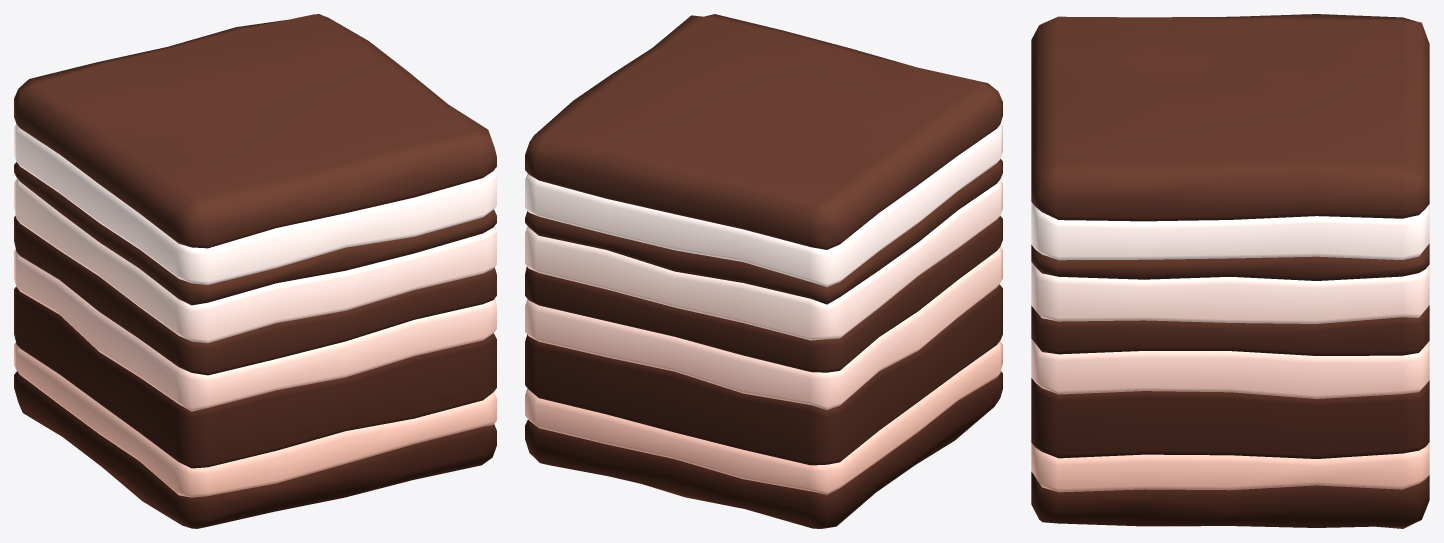
The model's file is Cake_01.glb.
3 views of the same model, side by side, from view 1: azimuth 30°, elevation 25°; view 2: azimuth 150°, elevation 25°; view 3: azimuth 270°, elevation 25° (orthographic). The views are drawn at different scales.
Parts seen in each view (by area): view 1: Cake_01; view 2: Cake_01; view 3: Cake_01.
Boxes of the visible parts, x1,y1,x2,y2 form: Cake_01: [14, 14, 496, 528]; Cake_01: [525, 14, 1002, 528]; Cake_01: [1031, 14, 1429, 528].
Bounding box in the file's own units: 2 × 2.04 × 2.
2 materials, 2 textured.
